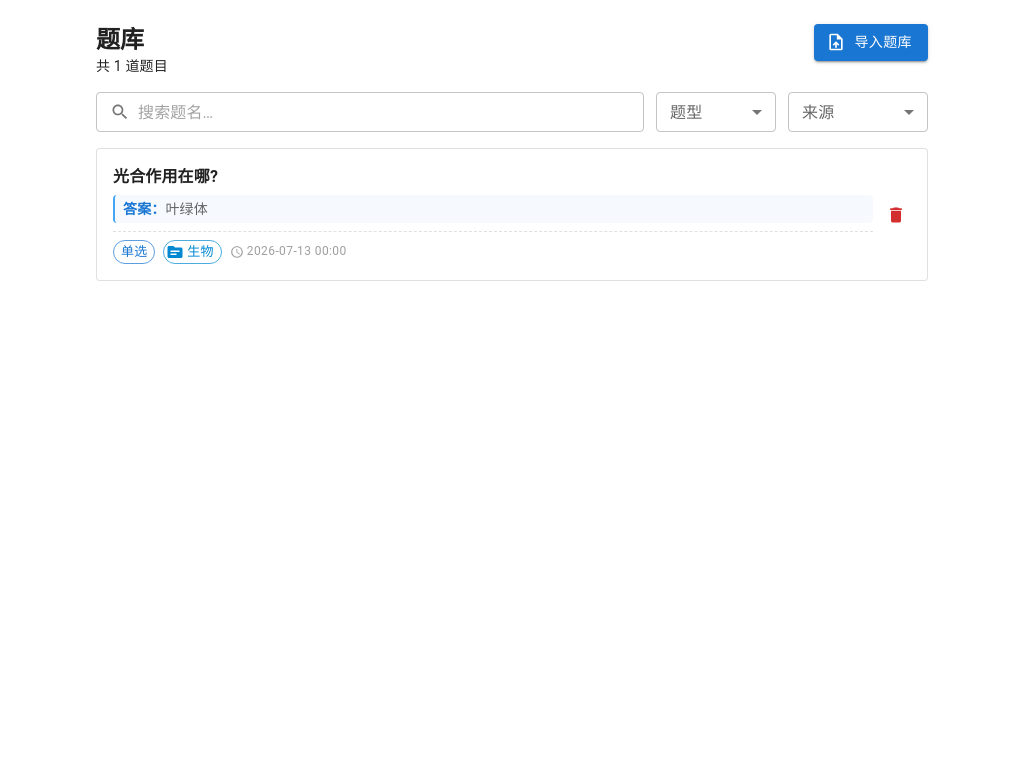
Test: QuestionBankView › 点题目卡片打开详情弹框
Step 1. Click the text "光合作用在哪?" → (166, 176), box [113,167,218,186]
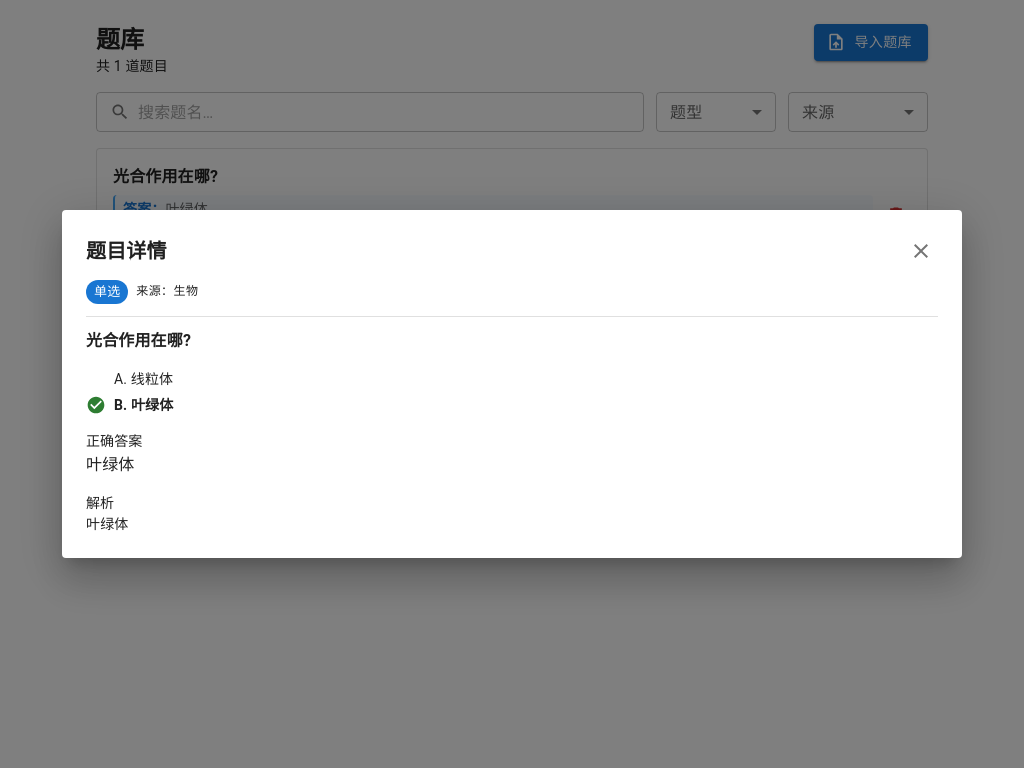
Result: the heading "题目详情" is shown at [86,234,167,266]
